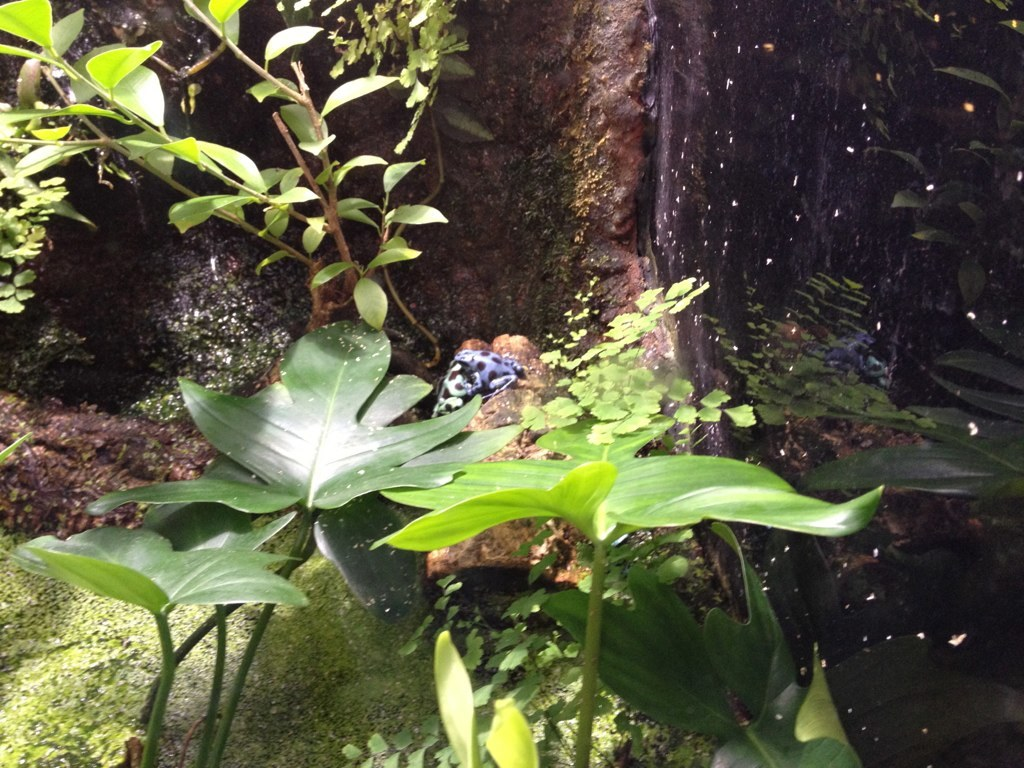Animal: (433, 349, 520, 418)
